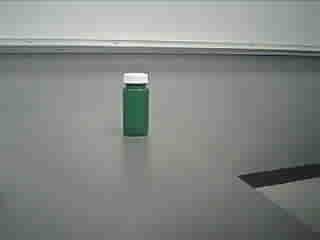Bottle C: (112, 68, 163, 148)
